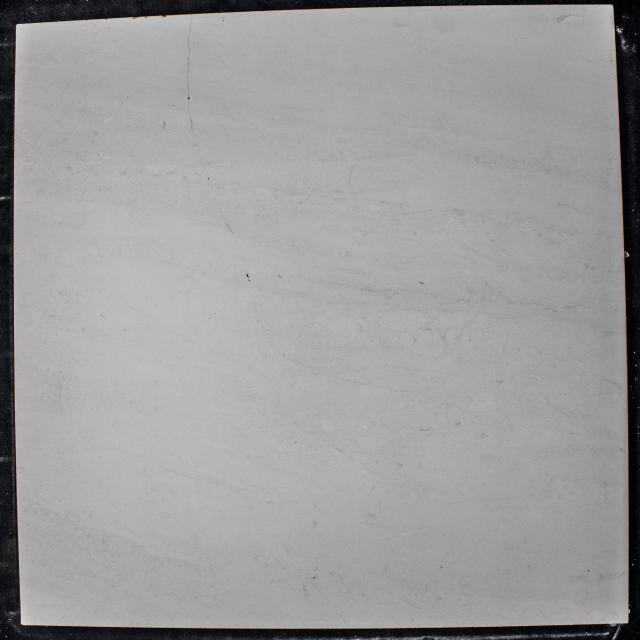edge-chipping: (132, 16, 139, 19), (162, 15, 167, 18)
hole: (245, 272, 250, 278), (187, 96, 191, 100)
line: (186, 15, 193, 96), (218, 207, 235, 235), (187, 102, 196, 142), (163, 121, 166, 129)
